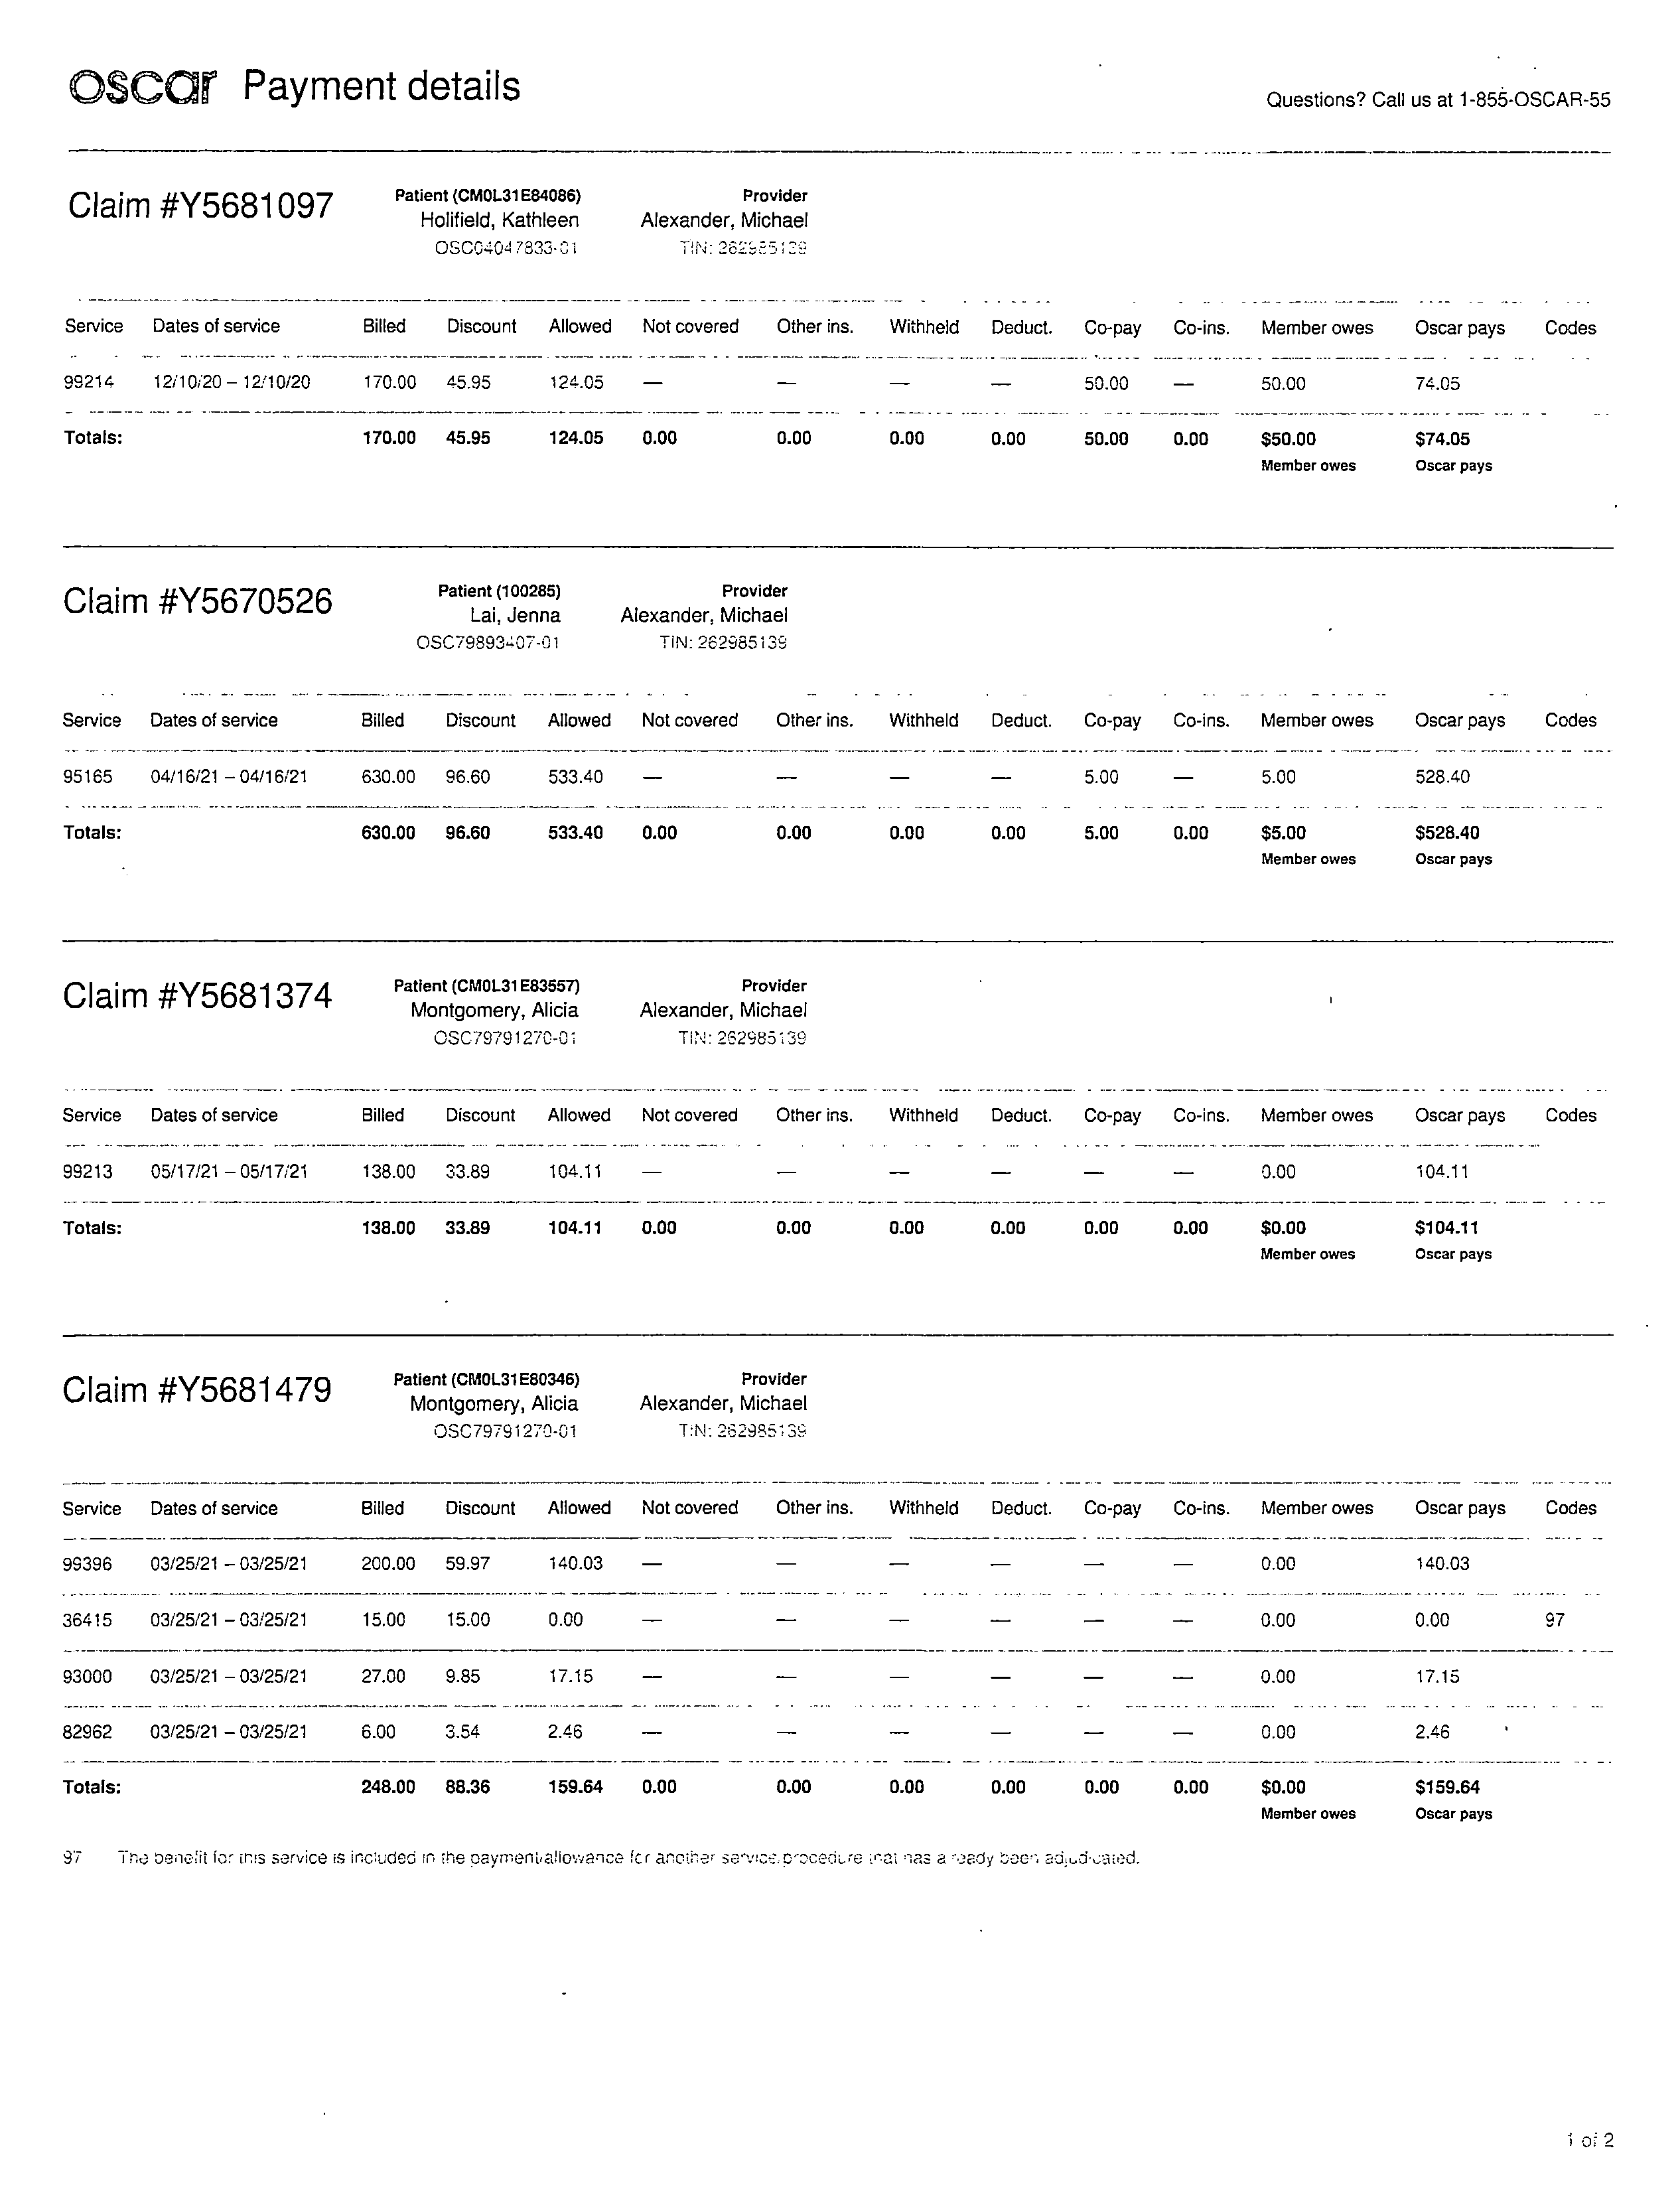data: (35, 962, 835, 1062), (64, 568, 819, 669), (51, 1366, 826, 1461), (65, 184, 840, 268)
table: (48, 1468, 1631, 1800), (55, 1062, 1620, 1240), (42, 293, 1631, 459), (55, 690, 1641, 845)
